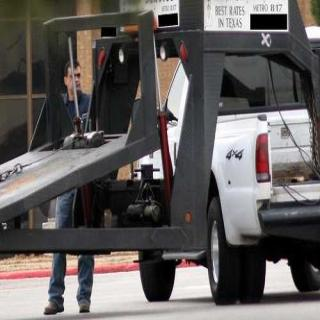Towing_truck: (1, 2, 318, 306)
